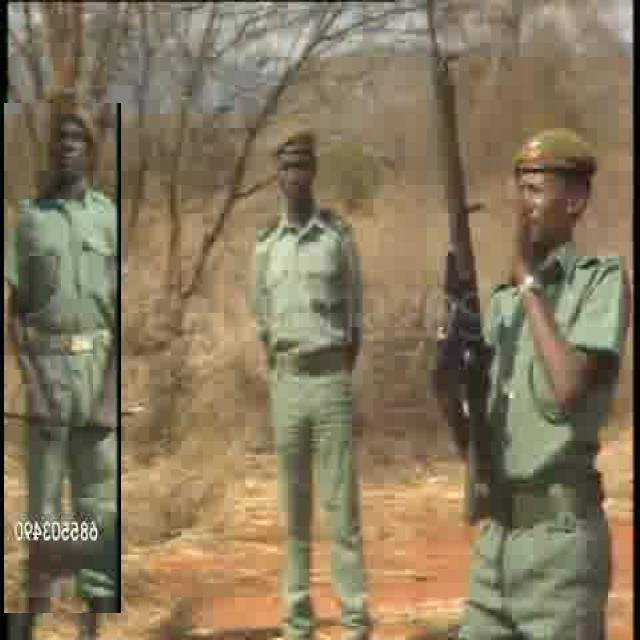poacher: (486, 108, 630, 585), (4, 103, 121, 613), (245, 152, 380, 580)
weapon: (424, 10, 489, 512)
